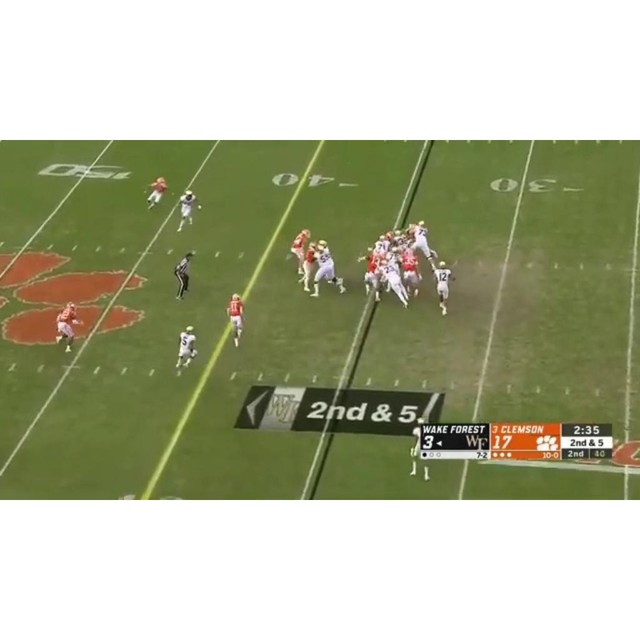american-football-player: (310, 245, 347, 298), (380, 256, 410, 309), (299, 240, 325, 295), (55, 302, 81, 354), (398, 246, 422, 301), (409, 418, 430, 480), (431, 260, 453, 316), (411, 220, 438, 264), (175, 325, 197, 372), (228, 292, 245, 348), (177, 190, 199, 232), (290, 229, 310, 274), (145, 176, 168, 210)
referee: (173, 249, 195, 301)
